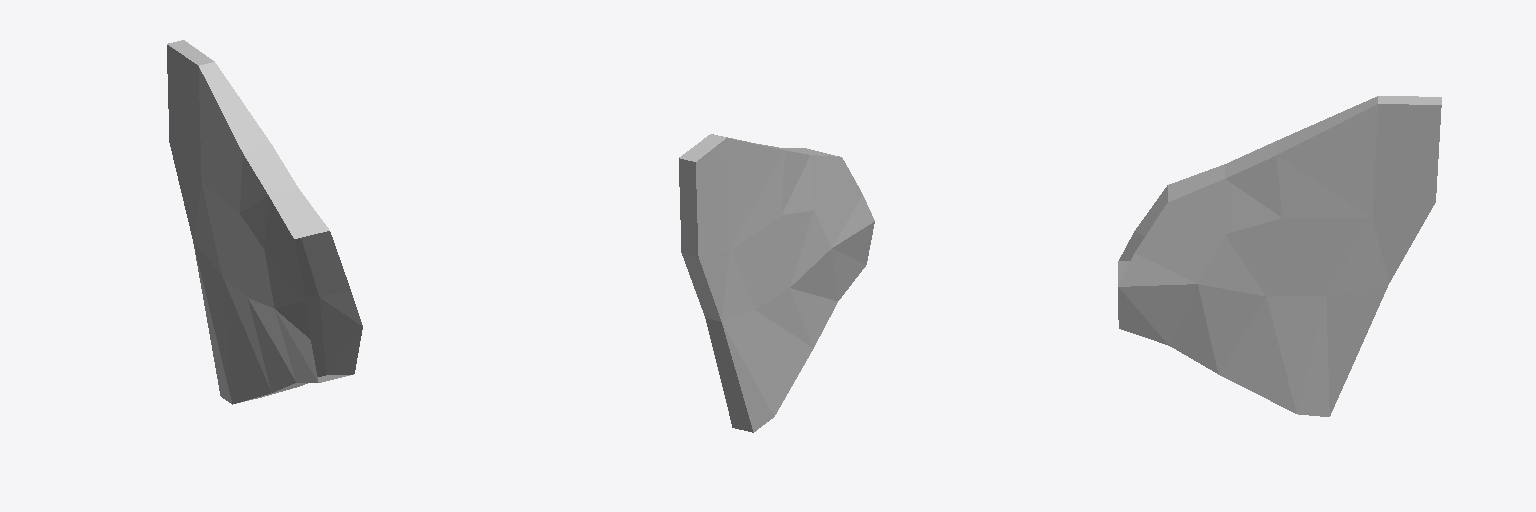
The model's file is ColaFish.obj.
3 renders of one model, left to right at view 1: azimuth 30°, elevation 25°; view 2: azimuth 150°, elevation 25°; view 3: azimuth 270°, elevation 25°, orthographic.
Visible parts, largest first — view 1: polySurface2 TropicalFish02; view 2: polySurface2 TropicalFish02; view 3: polySurface2 TropicalFish02.
Part boxes in pixels (x1,y1,x2,y2): polySurface2 TropicalFish02: (167, 40, 362, 404); polySurface2 TropicalFish02: (679, 134, 874, 432); polySurface2 TropicalFish02: (1118, 96, 1441, 416).
Size of the model in its own units: 0.4689 by 2.67 by 2.51.